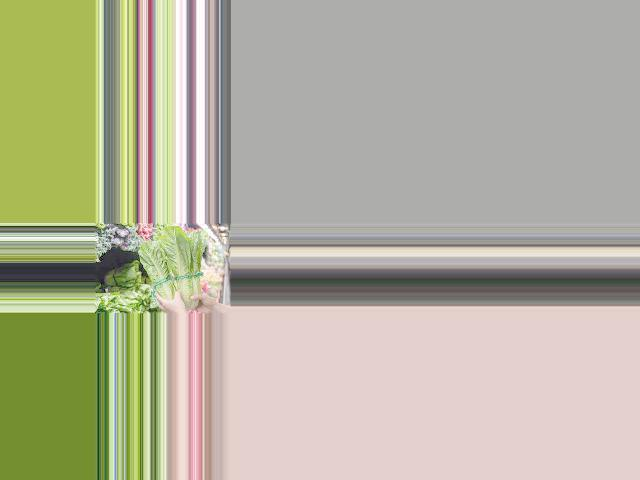lettuce: (137, 229, 204, 314)
